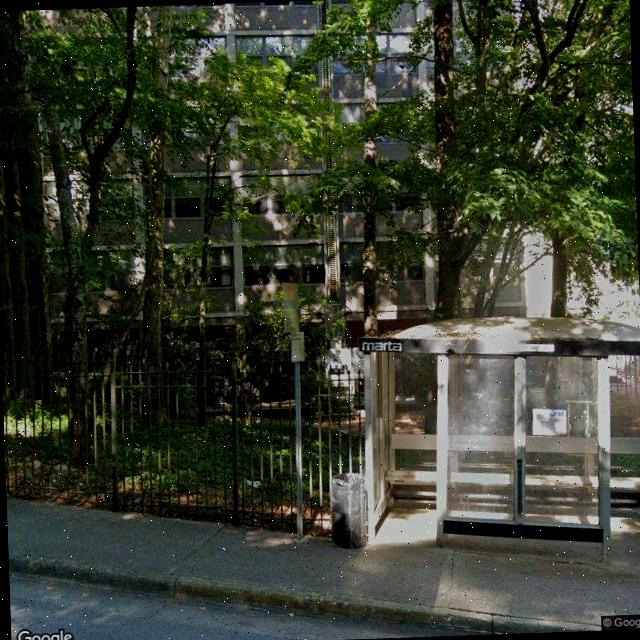seating: (382, 461, 640, 503)
shelter: (357, 310, 640, 563)
trash_can: (328, 471, 368, 548)
